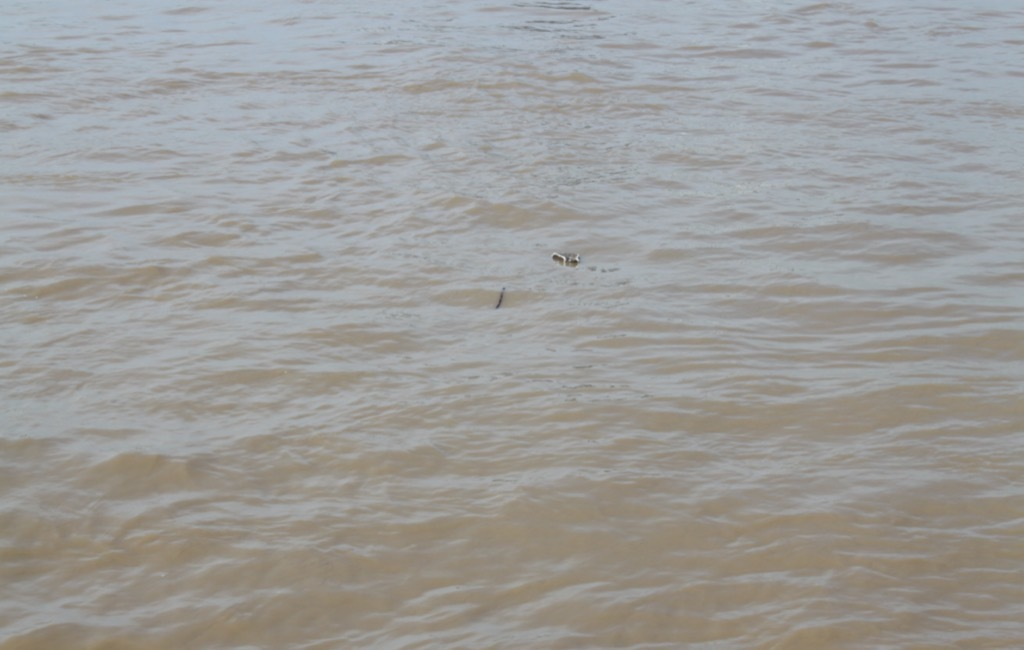organic: (489, 279, 513, 317)
plastic: (536, 231, 596, 281)
